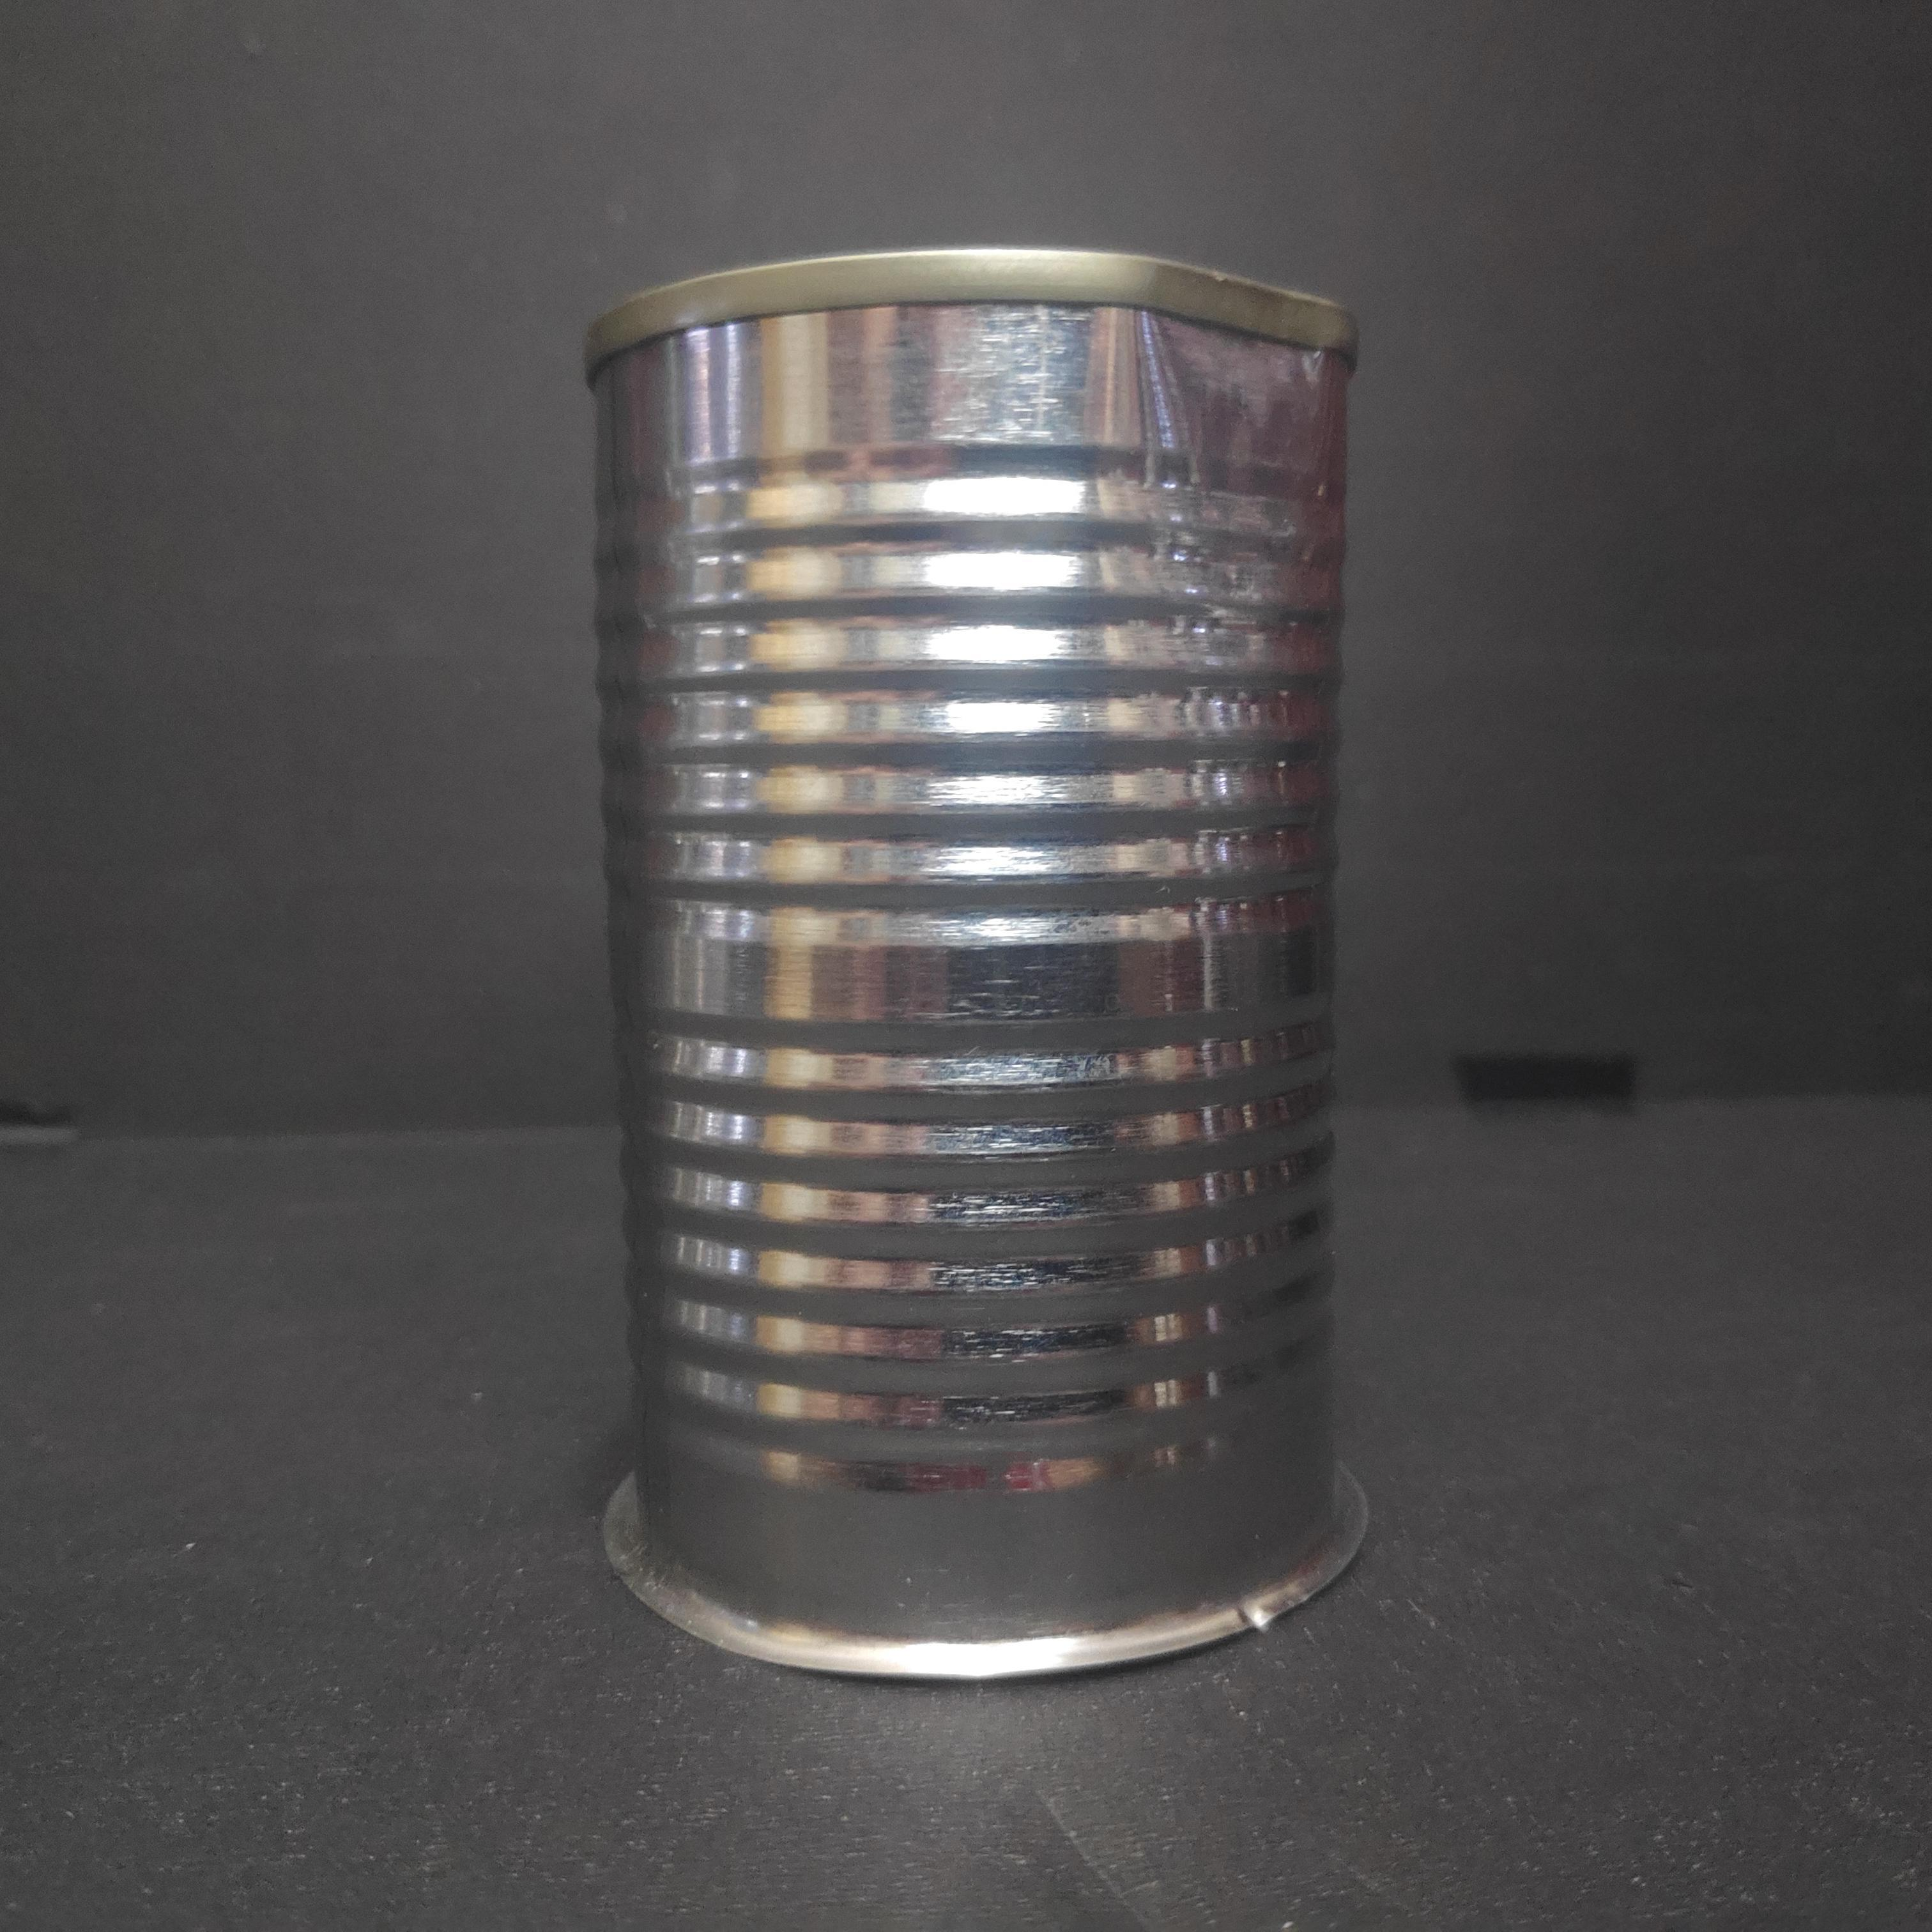Dented: (575, 237, 1389, 1702)
